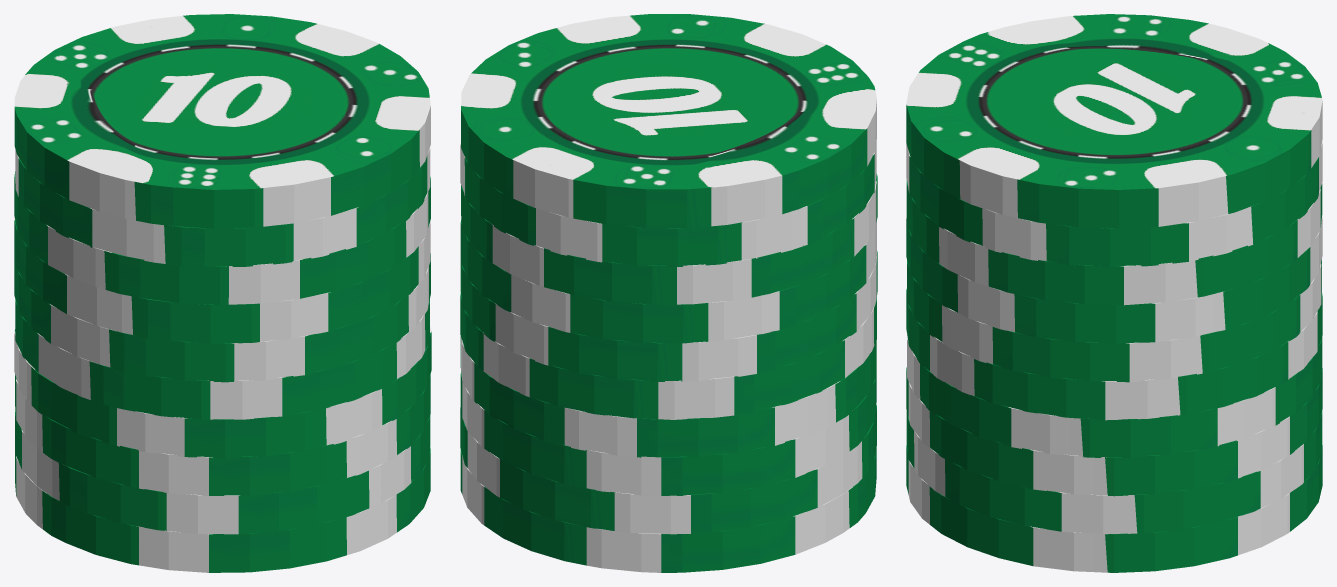
Rendered from CasinoChipStack.fbx.
The picture shows the model from 3 angles, left to right: view 1: azimuth 30°, elevation 25°; view 2: azimuth 150°, elevation 25°; view 3: azimuth 270°, elevation 25°; orthographic projection.
Parts seen in each view (by area): view 1: Cylinder.010; view 2: Cylinder.010; view 3: Cylinder.010.
Part boxes in pixels (left/top/right/bottom): Cylinder.010: left=14, top=14, right=431, bottom=572; Cylinder.010: left=460, top=14, right=877, bottom=572; Cylinder.010: left=906, top=14, right=1322, bottom=572.
Bounding box in the file's own units: 14.44 × 14.62 × 14.41.
